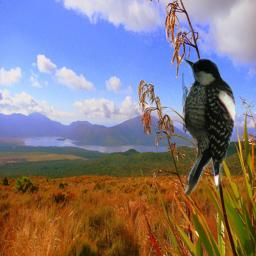Woodpecker: (182, 57, 236, 196)
